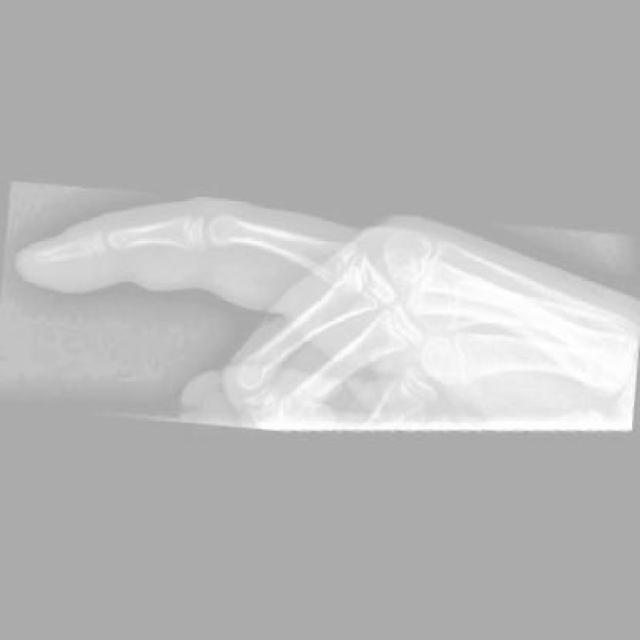Fracture: (114, 230, 137, 253)
